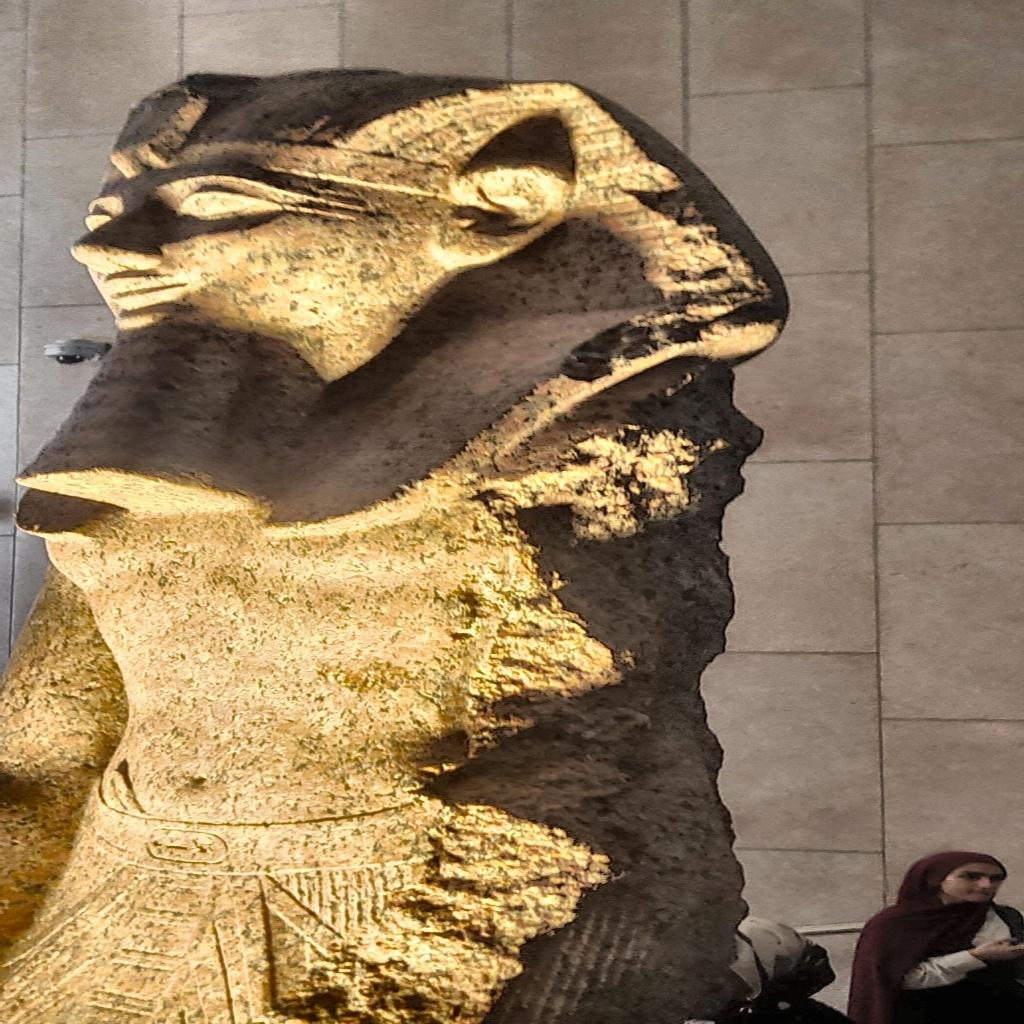Standing Statue of Thutmose III: (6, 64, 797, 1020)
